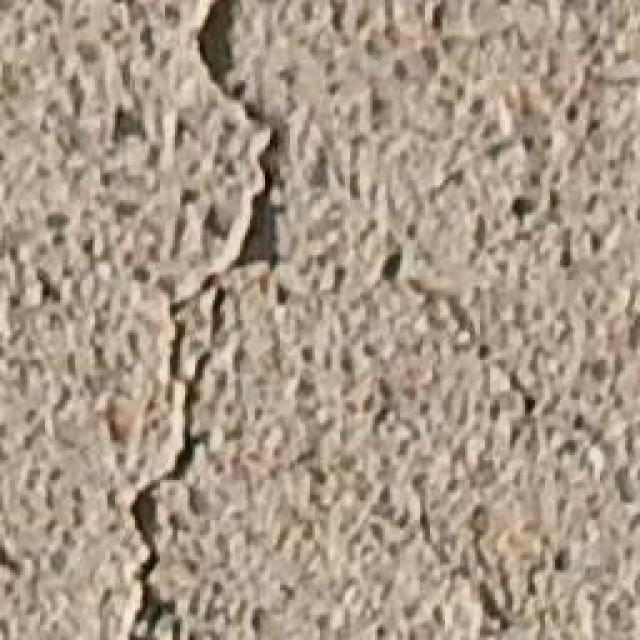concrete-crack: (122, 0, 304, 640)
